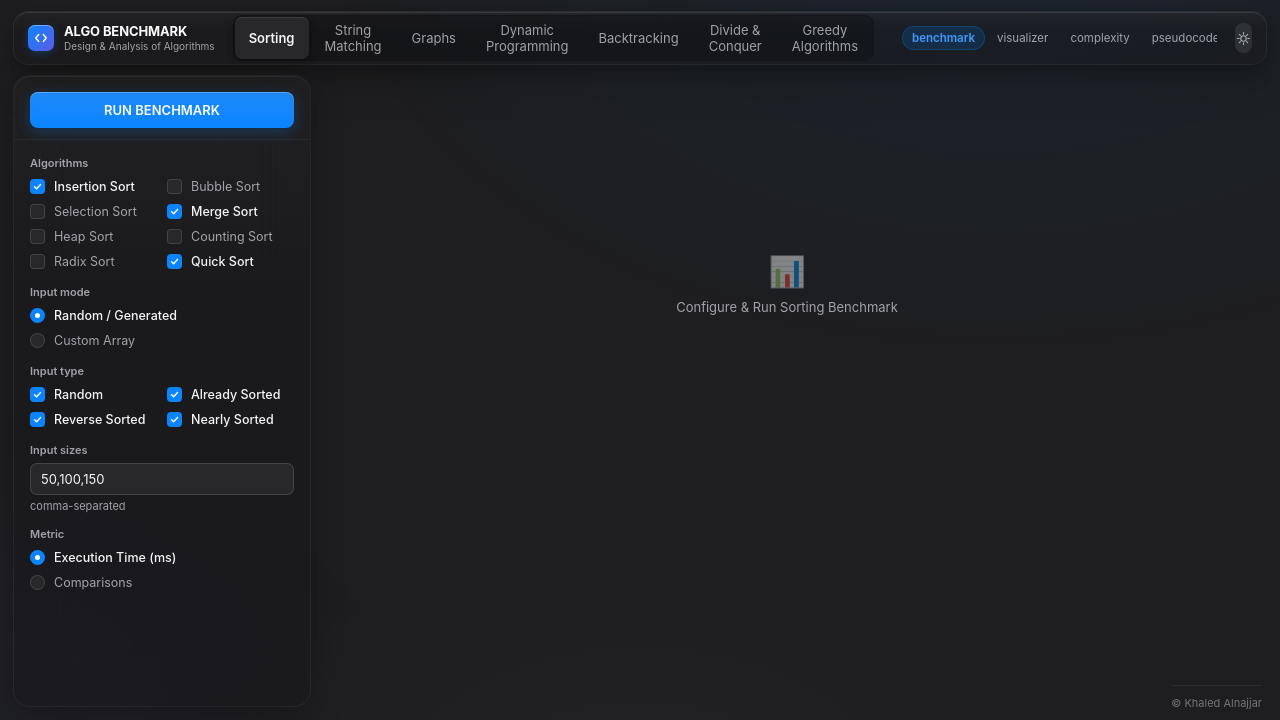
Test: App shell › runs a string matching benchmark end-to-end
What coordinates should you click on to do the following:
click the button "String Matching"
I would click on:
 (353, 38)
Its box is [310, 17, 396, 59].
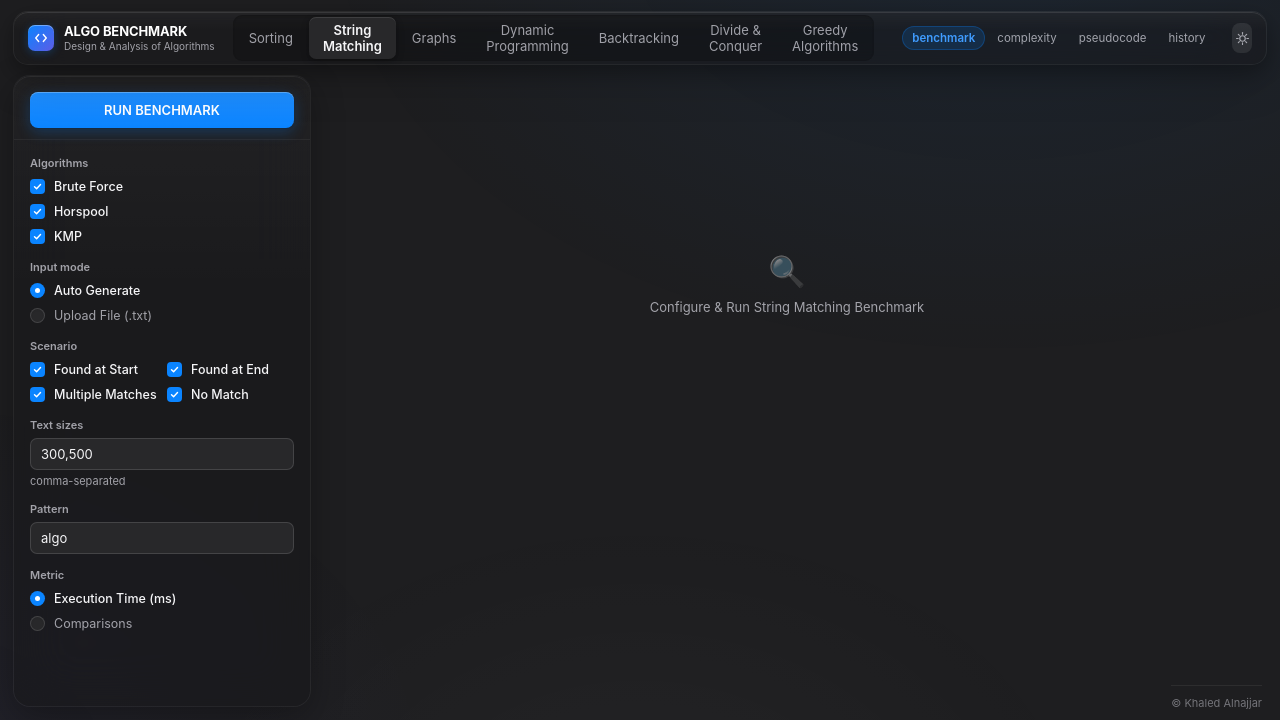
What coordinates should you click on to do the following:
click the button "RUN BENCHMARK"
I would click on:
 (162, 110)
Its box is [30, 92, 294, 128].
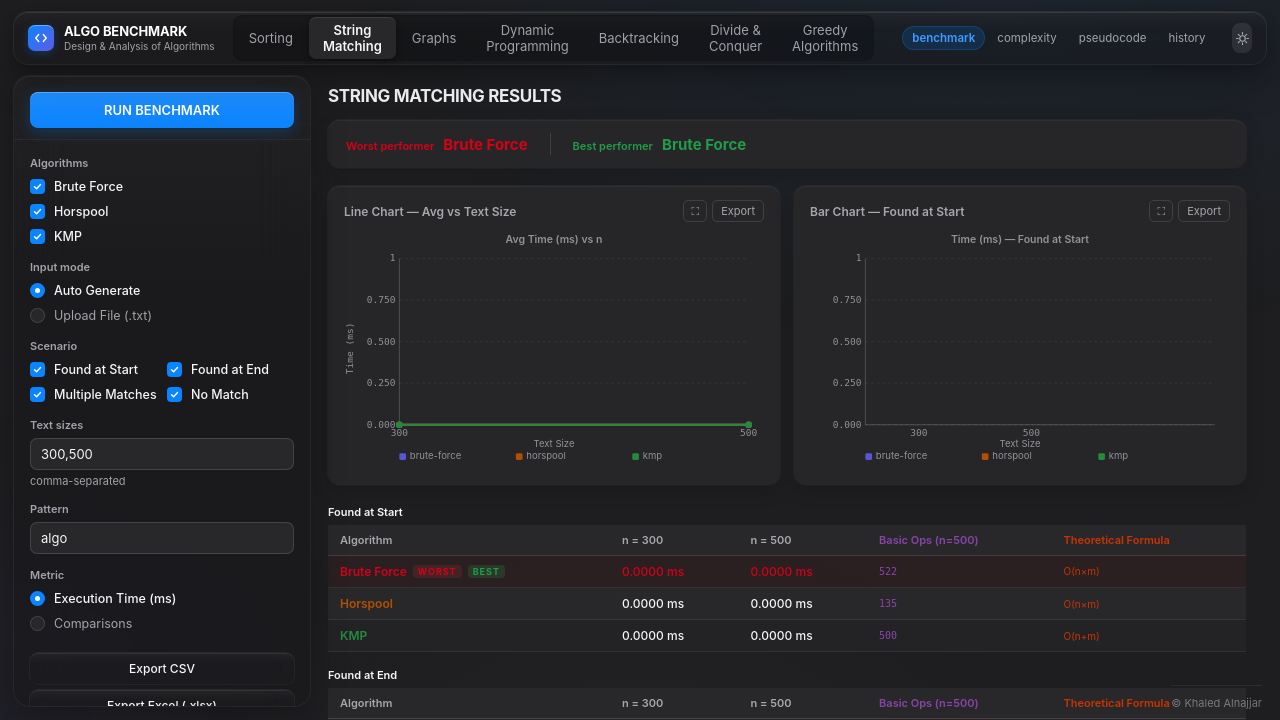
Check: the 3rd text "Brute Force" is shown, box [54, 178, 123, 194]
Check: the text "STRING MATCHING RESULTS" is shown, box [328, 86, 561, 106]
